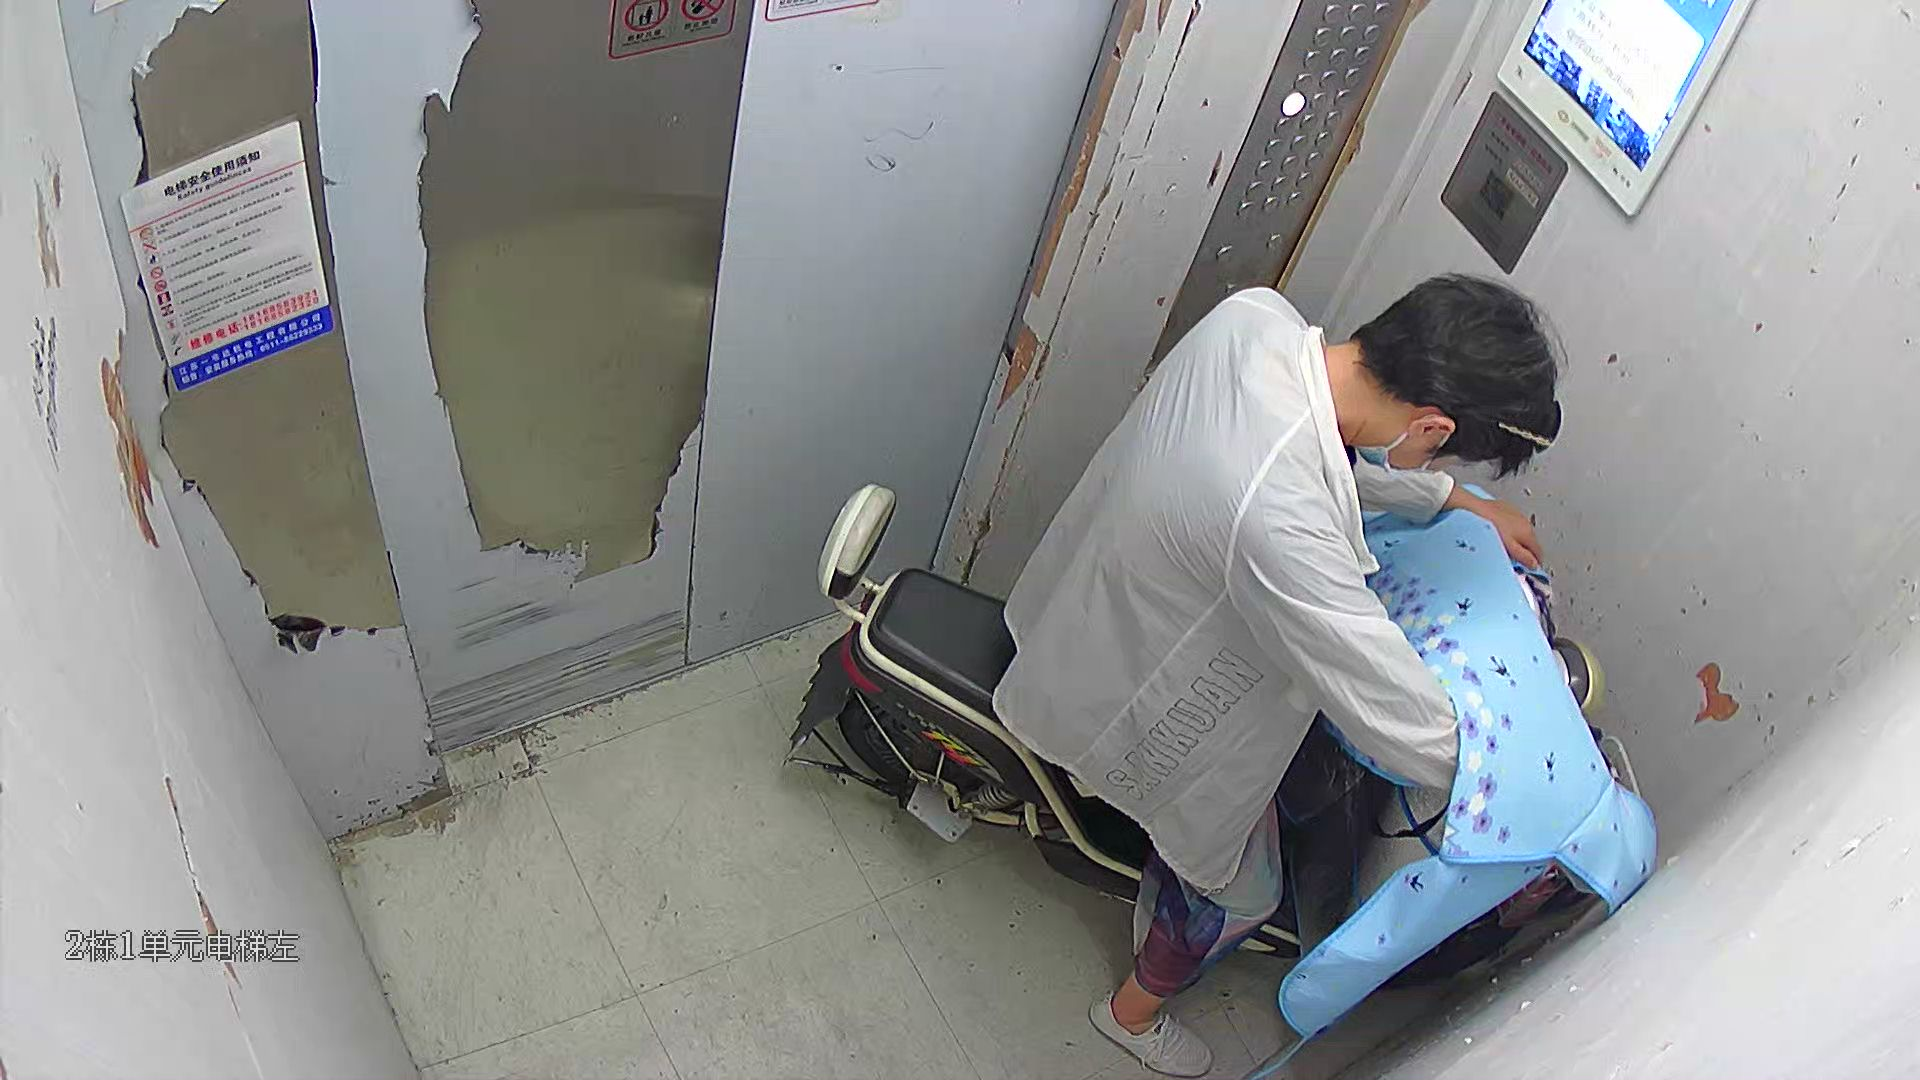Electric-bicycle: (818, 471, 1681, 915)
